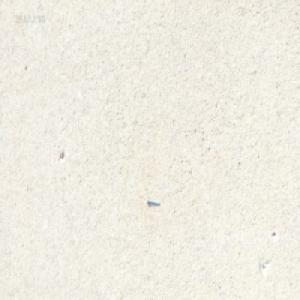Nail: (146, 196, 159, 205)
